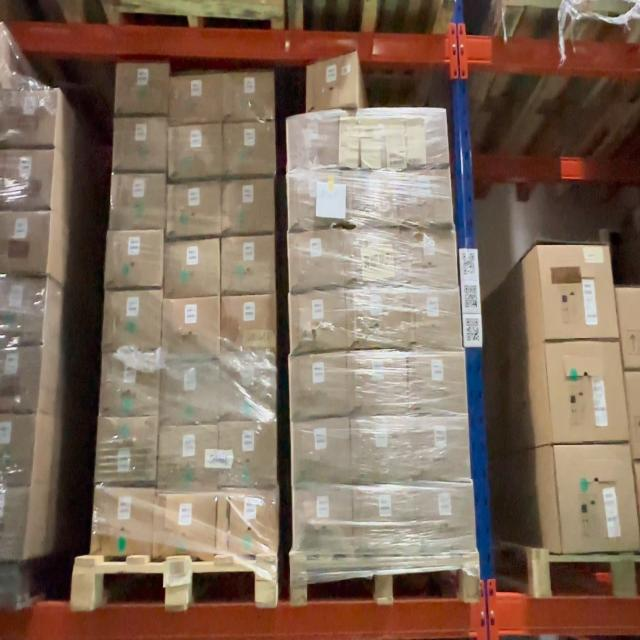box: (563, 444, 630, 554), (555, 341, 619, 443), (546, 244, 608, 340), (98, 417, 157, 484), (156, 494, 217, 558), (355, 488, 413, 554), (218, 421, 276, 486), (418, 482, 473, 550), (352, 417, 408, 483), (218, 492, 277, 554), (294, 488, 352, 550), (161, 360, 219, 422), (160, 426, 218, 488), (412, 417, 468, 481), (291, 355, 347, 419), (98, 488, 152, 554), (350, 352, 407, 414), (294, 419, 348, 484), (102, 355, 158, 416), (348, 289, 404, 349), (162, 297, 218, 357), (410, 353, 464, 413), (166, 237, 220, 297), (106, 292, 160, 352), (293, 290, 344, 352), (346, 228, 400, 286), (292, 229, 343, 290), (408, 288, 458, 350), (222, 296, 275, 352), (168, 180, 221, 236), (112, 174, 165, 230), (392, 110, 449, 162), (222, 359, 274, 416), (290, 170, 341, 228), (108, 232, 161, 285), (222, 180, 274, 233), (170, 124, 222, 177), (342, 170, 394, 222), (222, 239, 275, 290), (400, 170, 450, 224), (404, 230, 454, 284), (115, 120, 165, 172), (289, 116, 338, 169), (170, 75, 222, 124), (342, 111, 388, 166), (224, 72, 274, 120), (224, 126, 274, 173), (118, 66, 168, 112), (307, 65, 356, 104)
